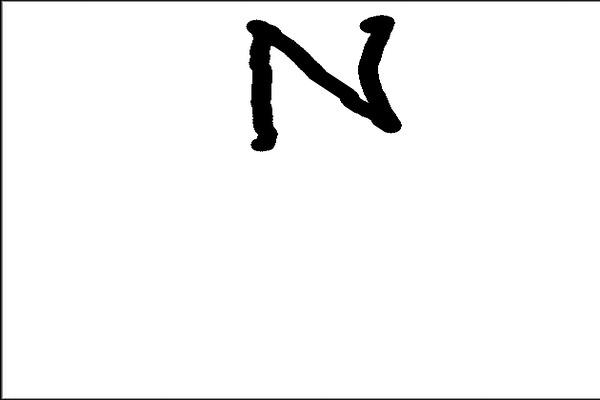N: (240, 7, 411, 157)
